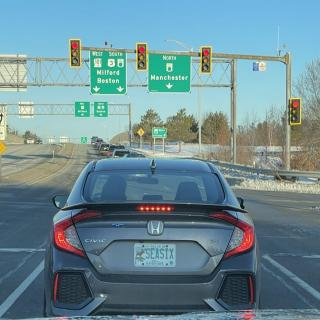license: (135, 245, 176, 268)
